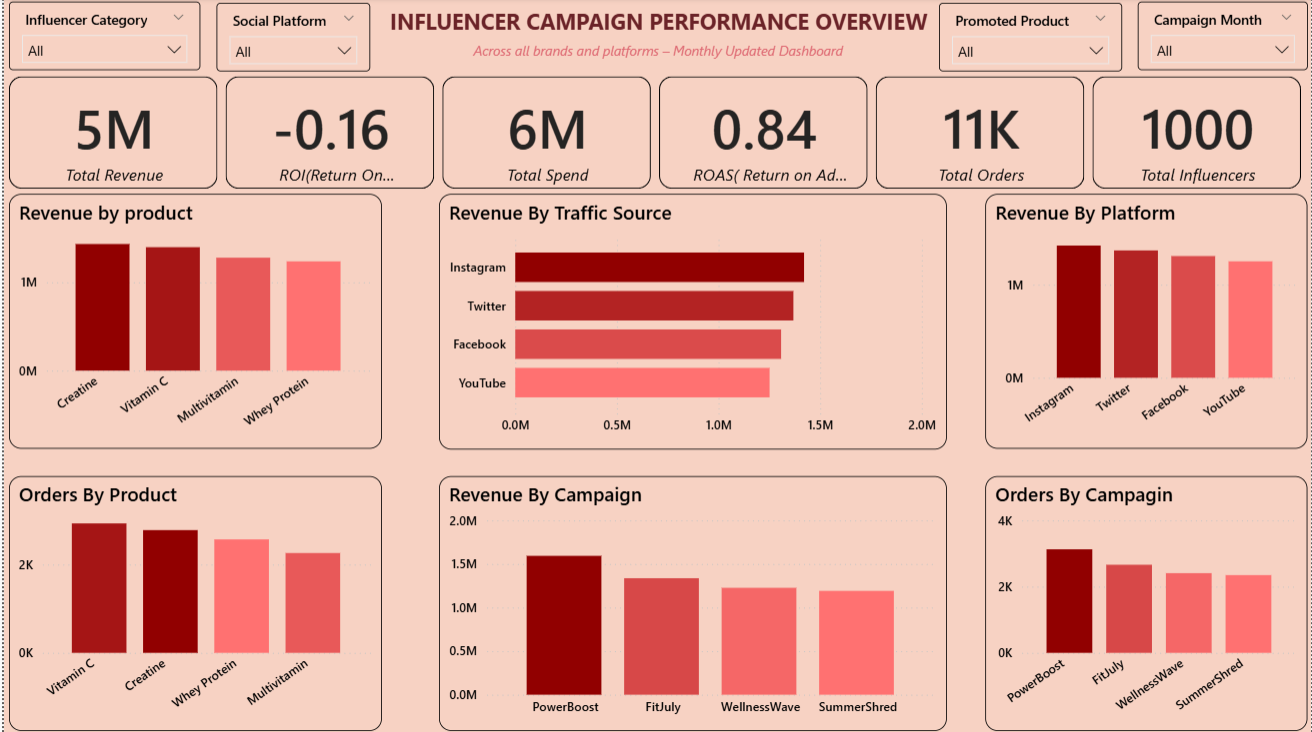

This screenshot's page, from the dashboard's own definition file:
{"tool":"powerbi","page":{"name":"Performance & ROI Overview","canvas":[1280,720],"ordinal":0},"visuals":[{"type":"columnChart","title":"Revenue by product","fields":{"Category":["tracking_data.product"],"Y":["Sum(tracking_data.revenue)"]},"box":[4.6,192.5,364.6,249.5],"z":0},{"type":"clusteredBarChart","title":"Revenue By Traffic Source","fields":{"Y":["Sum(tracking_data.revenue)"],"Category":["tracking_data.source"]},"box":[426.1,192.5,496.7,250],"z":1000},{"type":"cardVisual","fields":{"Data":["Sum(tracking_data.revenue)","tracking_data.ROI","payouts.Total Spend","tracking_data.ROAS","Sum(payouts.orders)","CountNonNull(influencers.ID)"]},"box":[0,71.8,1279.4,120.8],"z":2000},{"type":"slicer","fields":{"Values":["posts.Month Name"]},"box":[1109.6,3.4,166.3,67.2],"z":3000},{"type":"slicer","fields":{"Values":["tracking_data.product"]},"box":[914.8,4.6,178.9,67.2],"z":4000},{"type":"slicer","fields":{"Values":["influencers.Platform"]},"box":[208.5,4.6,150.4,67.2],"z":5000},{"type":"clusteredColumnChart","title":"Revenue By Platform","fields":{"Y":["Sum(tracking_data.revenue)"],"Category":["influencers.Platform"]},"box":[960.4,192.5,315.6,249.5],"z":6000},{"type":"clusteredColumnChart","title":"Orders By Campagin","fields":{"Y":["Sum(tracking_data.orders)"],"Category":["tracking_data.campaign"]},"box":[960.4,468.2,315.6,249.5],"z":7000},{"type":"clusteredColumnChart","title":"Orders By Product","fields":{"Category":["tracking_data.product"],"Y":["Sum(tracking_data.orders)"]},"box":[4.6,468.2,364.6,249.5],"z":8000},{"type":"textbox","box":[337.2,3.4,606.1,39.9],"z":9000},{"type":"textbox","box":[447.7,37.6,385.1,28.5],"z":10000},{"type":"slicer","fields":{"Values":["influencers.Category"]},"box":[4.6,3.4,186.8,67.2],"z":11000},{"type":"clusteredColumnChart","title":"Revenue By Campaign","fields":{"Y":["Sum(tracking_data.revenue)"],"Category":["tracking_data.campaign"]},"box":[426.1,468.2,496.7,249.5],"z":12000}]}

Visuals, with their boxes in screenshot pixels (x1, y1, x2, y2), scaled from the page's 1280x720 canvas onto the 1312x732 screenshot:
"Revenue by product" columnChart: bbox=[5, 196, 378, 449]
"Revenue By Traffic Source" clusteredBarChart: bbox=[437, 196, 946, 450]
cardVisual - Sum(tracking_data.revenue) x tracking_data.ROI: bbox=[0, 73, 1311, 196]
slicer - posts.Month Name: bbox=[1137, 3, 1308, 72]
slicer - tracking_data.product: bbox=[938, 5, 1121, 73]
slicer - influencers.Platform: bbox=[214, 5, 368, 73]
"Revenue By Platform" clusteredColumnChart: bbox=[984, 196, 1308, 449]
"Orders By Campagin" clusteredColumnChart: bbox=[984, 476, 1308, 730]
"Orders By Product" clusteredColumnChart: bbox=[5, 476, 378, 730]
textbox: bbox=[346, 3, 967, 44]
textbox: bbox=[459, 38, 854, 67]
slicer - influencers.Category: bbox=[5, 3, 196, 72]
"Revenue By Campaign" clusteredColumnChart: bbox=[437, 476, 946, 730]
